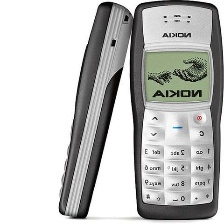phone: (126, 0, 224, 224), (56, 0, 136, 220)
